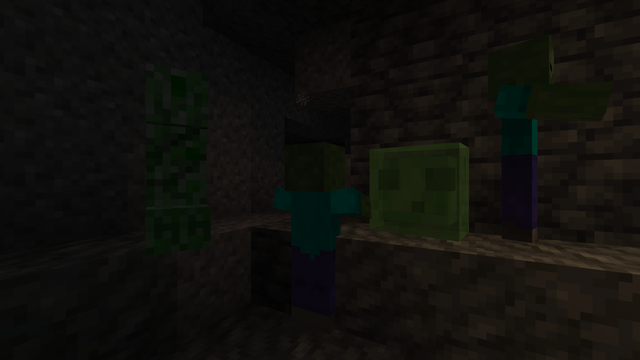creepers: (127, 50, 222, 254)
slimes: (370, 138, 470, 241)
zombies: (487, 35, 568, 246), (277, 146, 349, 346)
